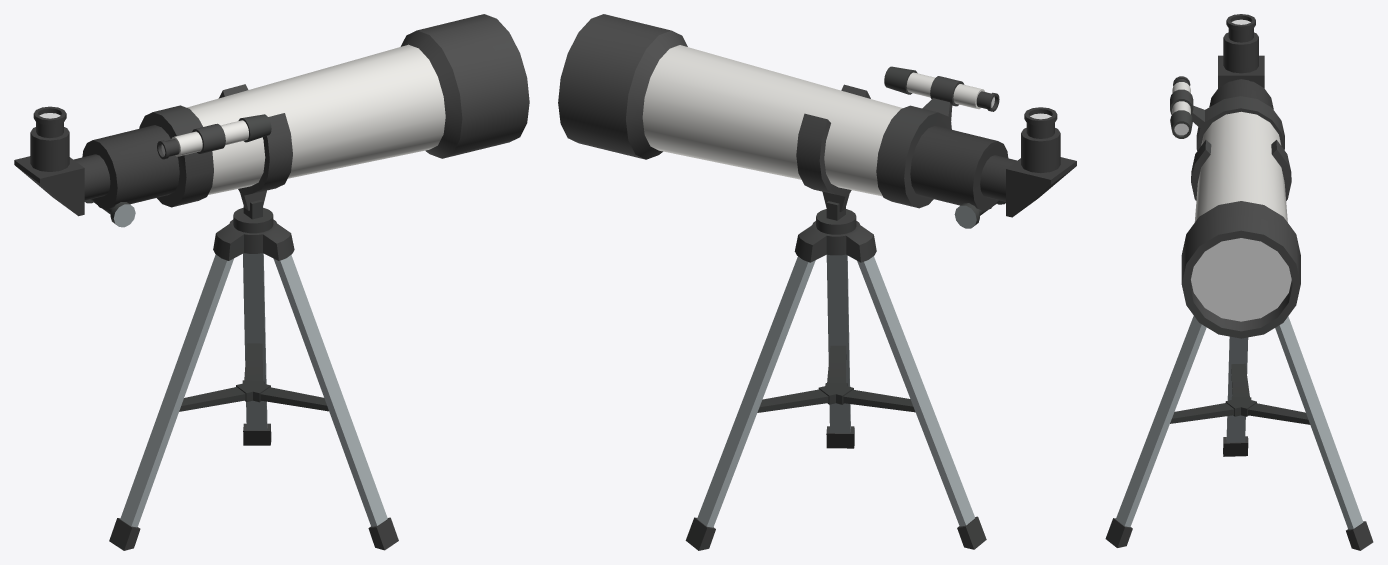
File: Telescope.fbx
3 renders of one model, left to right at view 1: azimuth 30°, elevation 25°; view 2: azimuth 150°, elevation 25°; view 3: azimuth 270°, elevation 25°, orthographic. The views are drawn at different scales.
Parts seen in each view (by area): view 1: Telescope_Top, Telescope_Base; view 2: Telescope_Top, Telescope_Base; view 3: Telescope_Top, Telescope_Base.
Part boxes in pixels (x1,y1,x2,y2): Telescope_Top: (14, 14, 529, 227); Telescope_Base: (109, 200, 398, 550); Telescope_Top: (558, 14, 1076, 228); Telescope_Base: (685, 201, 986, 550); Telescope_Top: (1170, 14, 1300, 338); Telescope_Base: (1105, 316, 1373, 550).
Size of the model in its own units: 190 by 173 by 104.
